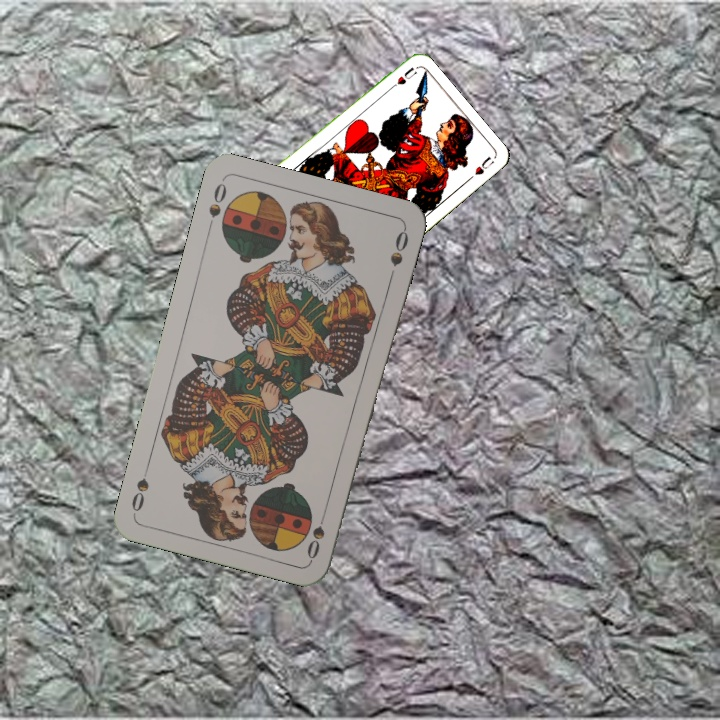HU: (384, 63, 419, 94)
SO: (303, 504, 330, 562), (203, 178, 230, 235)
